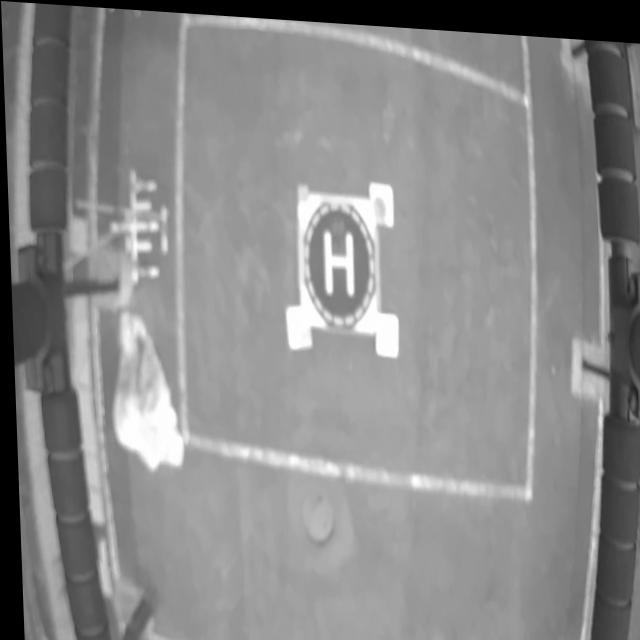Helipad: (322, 227, 352, 291)
